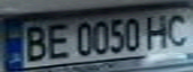0: (90, 17, 112, 55), (72, 19, 93, 57), (124, 15, 145, 52)
5: (109, 16, 127, 54)
B: (18, 22, 51, 63)
C: (163, 10, 193, 48)
E: (42, 20, 72, 61)
H: (142, 11, 172, 51)
